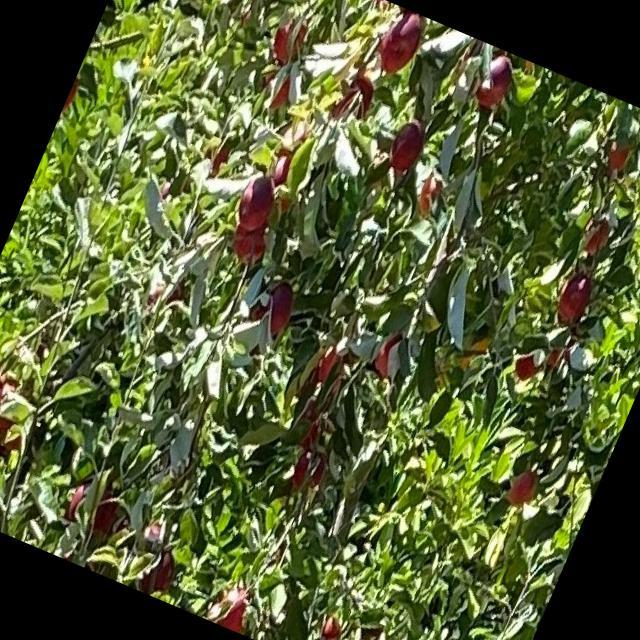100-_ripeness: (284, 413, 344, 494), (374, 8, 428, 76), (251, 276, 301, 339), (231, 172, 281, 234), (329, 70, 378, 132), (63, 475, 114, 530), (553, 268, 598, 326), (384, 118, 430, 174), (268, 11, 310, 66), (476, 53, 516, 109), (214, 584, 258, 632), (140, 545, 180, 597), (372, 329, 408, 380), (231, 217, 272, 260), (581, 214, 616, 258), (313, 338, 346, 384), (262, 66, 298, 108), (512, 342, 548, 383), (508, 466, 540, 506), (604, 136, 634, 172)
